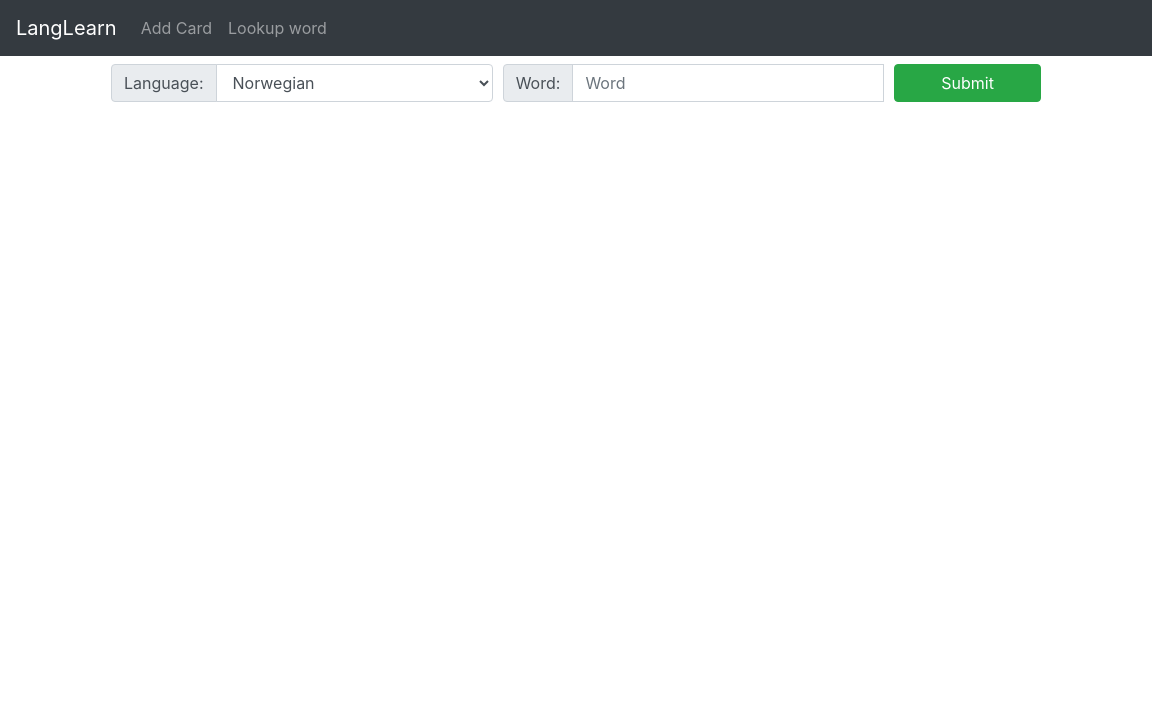
Test: loads AddCard.jsx
The width and height of the screenshot is (1152, 720).
Click the link "Add Card". click: (176, 28)
box: [141,18,212,38]
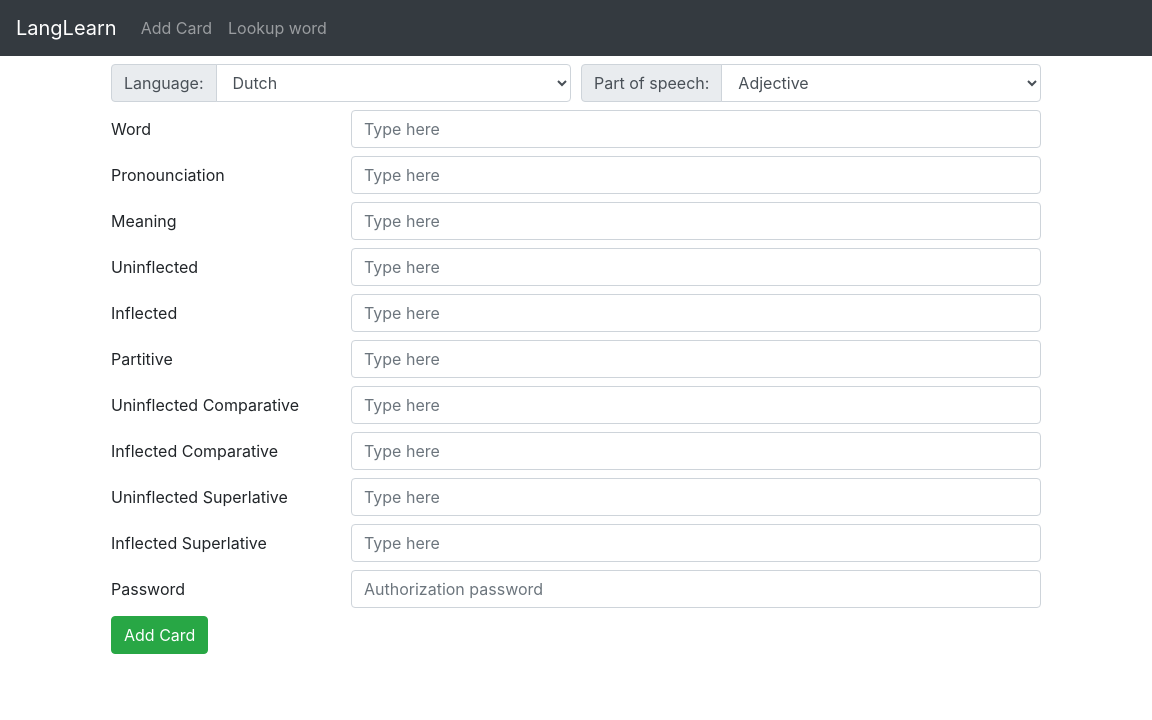
Check: the text "Part of speech:" is shown, box [581,64,722,102]
